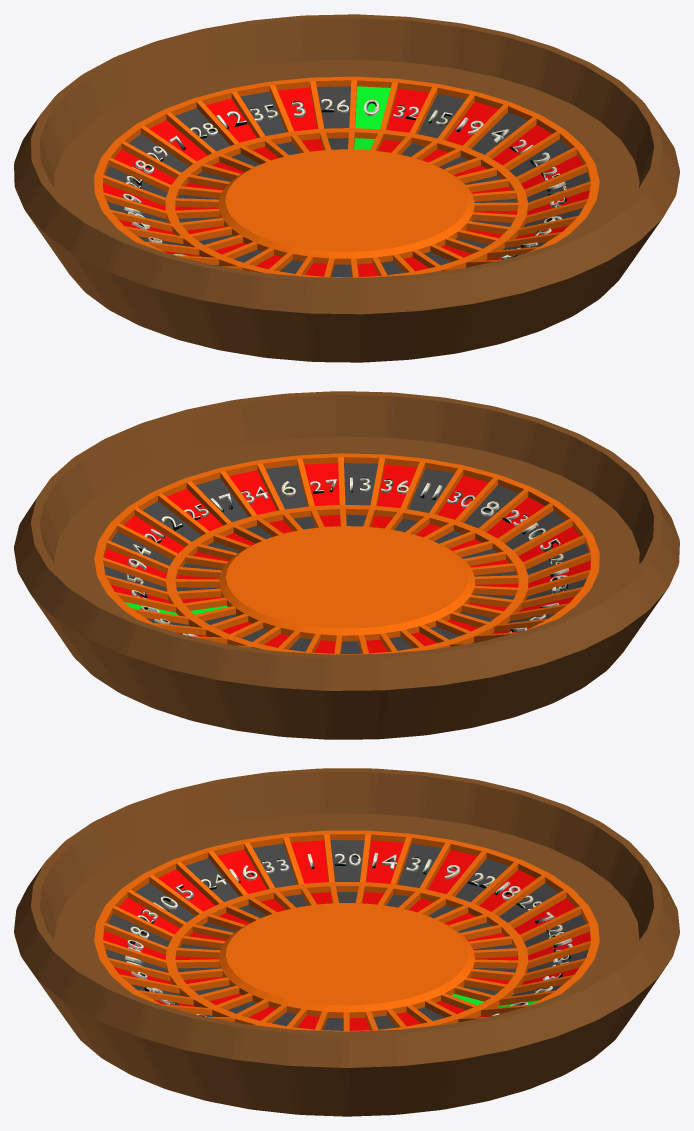
The model's file is RouletteWheel (1).fbx.
3 renders of one model, top to bottom at view 1: azimuth 30°, elevation 25°; view 2: azimuth 150°, elevation 25°; view 3: azimuth 270°, elevation 25°, orthographic.
Parts seen in each view (by area): view 1: RouletteModel; view 2: RouletteModel; view 3: RouletteModel.
Part boxes in pixels (box(x1,y1,x2,y2)): RouletteModel: box(14, 14, 679, 362); RouletteModel: box(14, 391, 679, 739); RouletteModel: box(14, 768, 679, 1116).
Bounding box in the file's own units: 224 × 34.66 × 225.
1 material, 1 textured.
